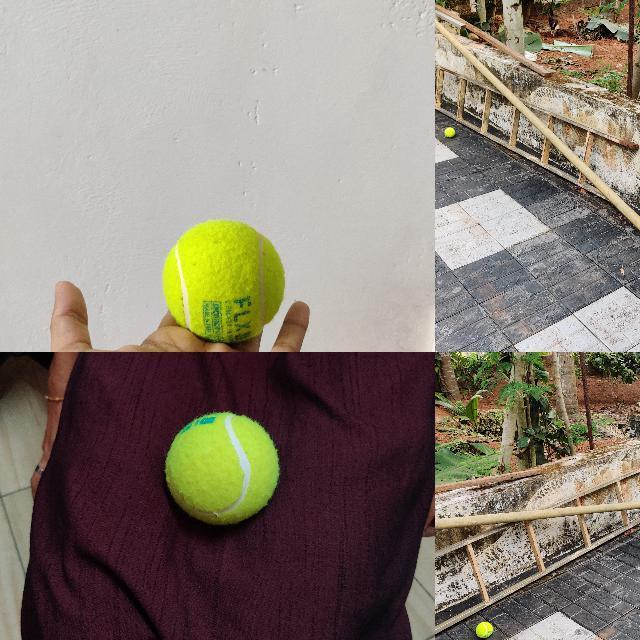tennis-ball: (161, 218, 285, 342), (166, 413, 278, 524), (476, 622, 493, 639), (444, 127, 455, 137)
